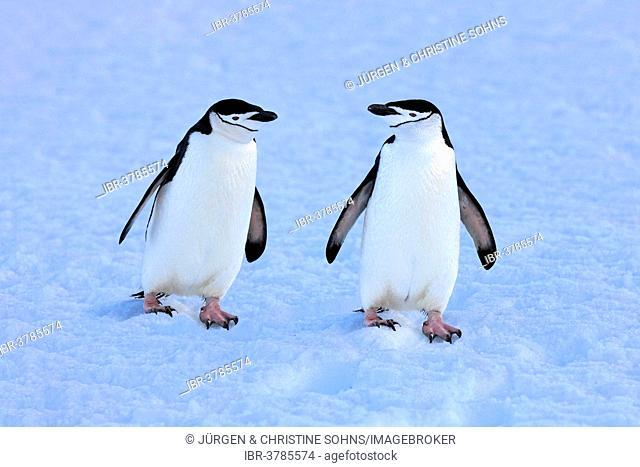chinstrap: (90, 71, 288, 403), (325, 85, 513, 364)
